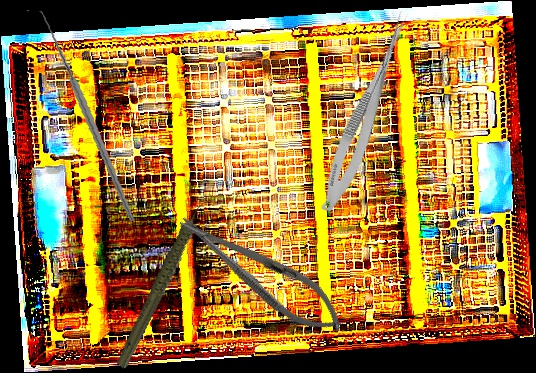Handpiece: (86, 197, 243, 370)
Hook Surgical: (3, 9, 161, 222)
Micro Scissor: (314, 6, 416, 218)
Needle Holder: (168, 199, 355, 347)
